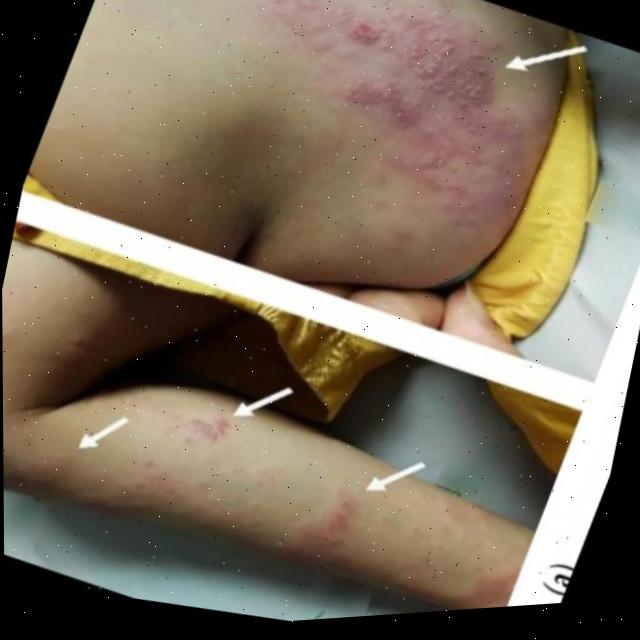Shingles: (264, 0, 507, 181), (298, 485, 361, 569), (166, 408, 229, 451), (462, 558, 511, 609)
